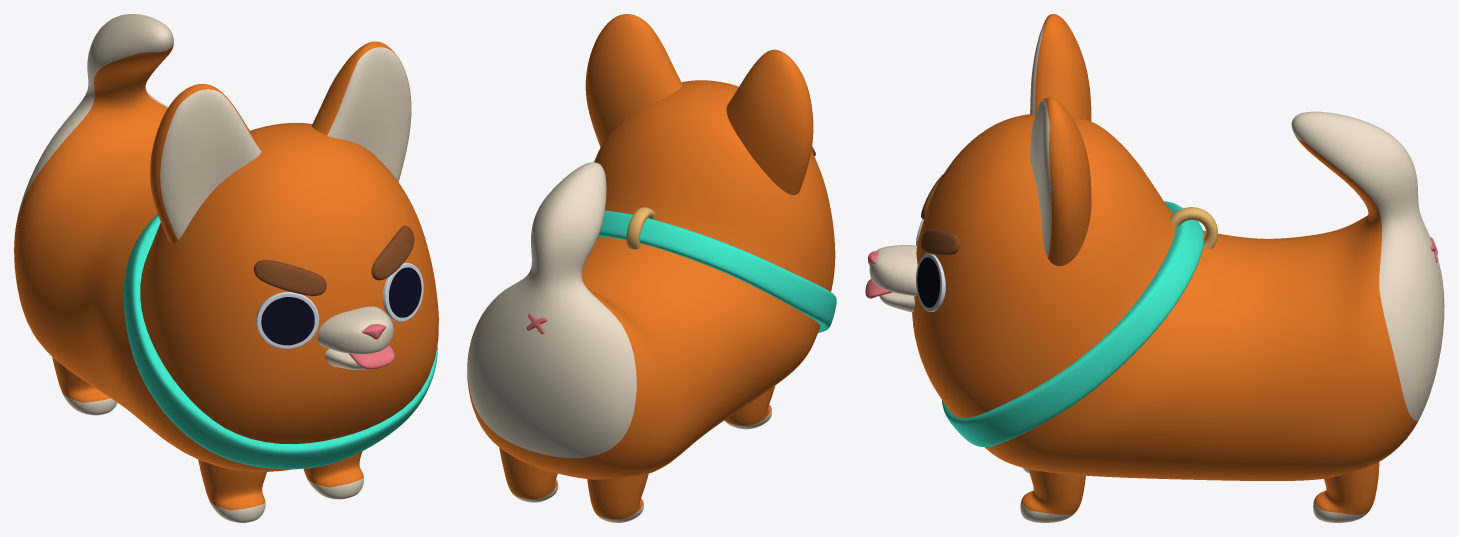
Rendered from Dog.fbx.
3 renders of one model, left to right at view 1: azimuth 30°, elevation 25°; view 2: azimuth 150°, elevation 25°; view 3: azimuth 270°, elevation 25°, orthographic. The views are drawn at different scales.
Visible parts, largest first — view 1: Body, Dog_collar, FrontLeg_right, Dogeye_right, Dogeye_left, FrontLeg_left, Dogeyebrow_right, BackLeg_right, Dogeyebrow_left; view 2: Body, Dog_collar, BackLeg_right, BackLeg_left, FrontLeg_right; view 3: Body, Dog_collar, BackLeg_left, FrontLeg_left, Dogeye_left, Dogeyebrow_left.
Boxes of the visible parts, left/top/right/bottom form: Body: left=14, top=14, right=438, bottom=471; Dog_collar: left=123, top=214, right=437, bottom=469; FrontLeg_right: left=198, top=459, right=266, bottom=522; Dogeye_right: left=256, top=292, right=319, bottom=348; Dogeye_left: left=382, top=262, right=423, bottom=321; FrontLeg_left: left=303, top=451, right=363, bottom=499; Dogeyebrow_right: left=253, top=260, right=326, bottom=295; BackLeg_right: left=52, top=357, right=117, bottom=415; Dogeyebrow_left: left=371, top=225, right=414, bottom=280; Body: left=467, top=14, right=835, bottom=479; Dog_collar: left=598, top=207, right=836, bottom=332; BackLeg_right: left=587, top=473, right=648, bottom=522; BackLeg_left: left=499, top=447, right=558, bottom=502; FrontLeg_right: left=724, top=386, right=774, bottom=429; Body: left=865, top=14, right=1444, bottom=480; Dog_collar: left=942, top=201, right=1217, bottom=446; BackLeg_left: left=1313, top=462, right=1379, bottom=522; FrontLeg_left: left=1020, top=469, right=1085, bottom=522; Dogeye_left: left=916, top=253, right=945, bottom=311; Dogeyebrow_left: left=921, top=229, right=960, bottom=255.
Size of the model in its own units: 1.33 by 2.02 by 2.43.
